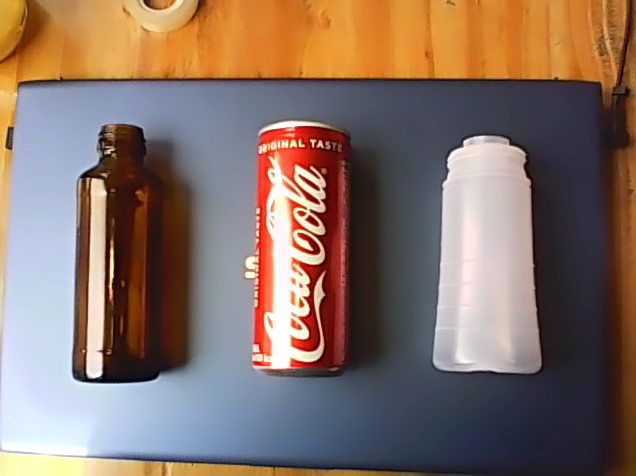Can: (248, 117, 356, 383)
Glass: (67, 118, 167, 388)
Plastic: (426, 126, 548, 381)
